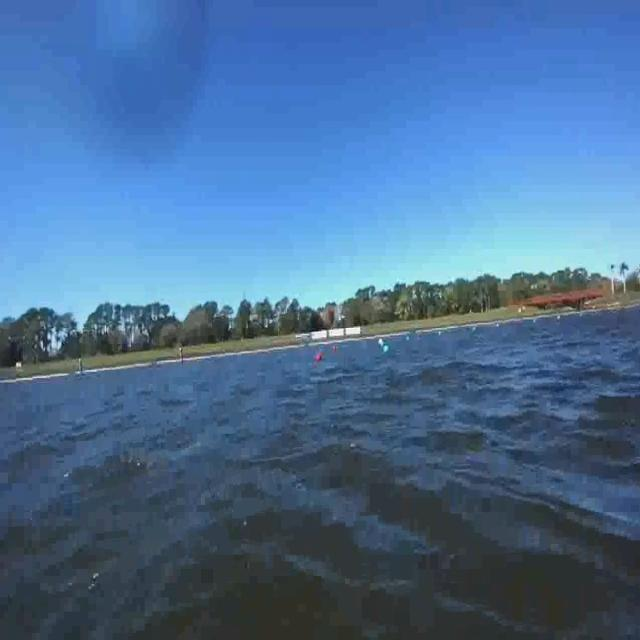red-buoy: (315, 354, 323, 362)
